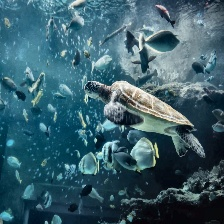seaturtle: (155, 4, 177, 29)
